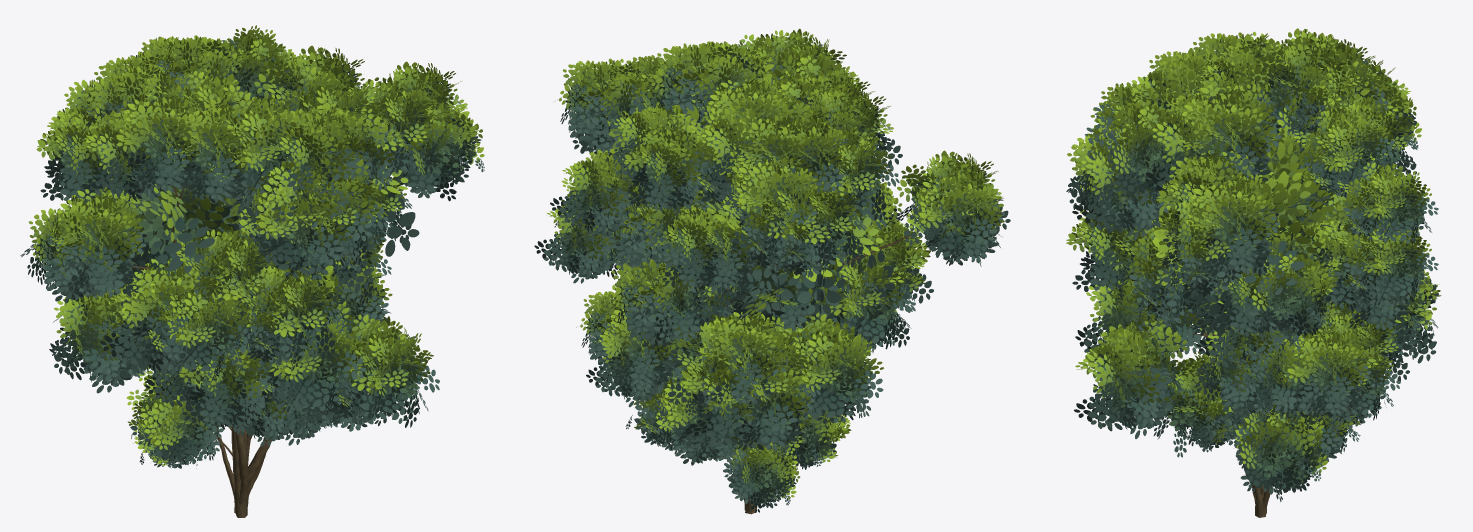
The model's file is trees_final.glb.
The picture shows the model from 3 angles, left to right: view 1: azimuth 30°, elevation 25°; view 2: azimuth 150°, elevation 25°; view 3: azimuth 270°, elevation 25°; orthographic projection. The views are drawn at different scales.
Visible parts, largest first — view 1: Tree_03_branch, Tree_06_branch, Tree_04_branch, Tree_08_branch, Tree_05_branch, Tree_02_branch, Tree_08_trunk; view 2: Tree_03_branch, Tree_02_branch, Tree_06_branch, Tree_05_branch, Tree_08_branch, Tree_04_branch, Tree_07_branch; view 3: Tree_03_branch, Tree_06_branch, Tree_02_branch, Tree_04_branch, Tree_08_branch, Tree_05_branch, Tree_07_branch.
Boxes of the visible parts, <box> form: Tree_03_branch: <box>20,35,484,379</box>; Tree_06_branch: <box>49,45,439,427</box>; Tree_04_branch: <box>136,231,392,445</box>; Tree_08_branch: <box>84,100,419,316</box>; Tree_05_branch: <box>126,369,317,468</box>; Tree_02_branch: <box>125,25,412,307</box>; Tree_08_trunk: <box>235,424,271,517</box>; Tree_03_branch: <box>558,28,1010,348</box>; Tree_02_branch: <box>534,71,865,412</box>; Tree_06_branch: <box>645,41,915,451</box>; Tree_05_branch: <box>649,286,851,512</box>; Tree_08_branch: <box>607,102,895,328</box>; Tree_04_branch: <box>608,262,913,450</box>; Tree_07_branch: <box>653,360,813,465</box>; Tree_03_branch: <box>1066,28,1421,330</box>; Tree_06_branch: <box>1066,55,1441,438</box>; Tree_02_branch: <box>1151,54,1438,422</box>; Tree_04_branch: <box>1100,227,1328,501</box>; Tree_08_branch: <box>1152,128,1341,336</box>; Tree_05_branch: <box>1201,301,1374,462</box>; Tree_07_branch: <box>1207,362,1346,466</box>.
Size of the model in its own units: 18.42 by 18.06 by 14.16.
Materials: 2 (2 with a texture image).
